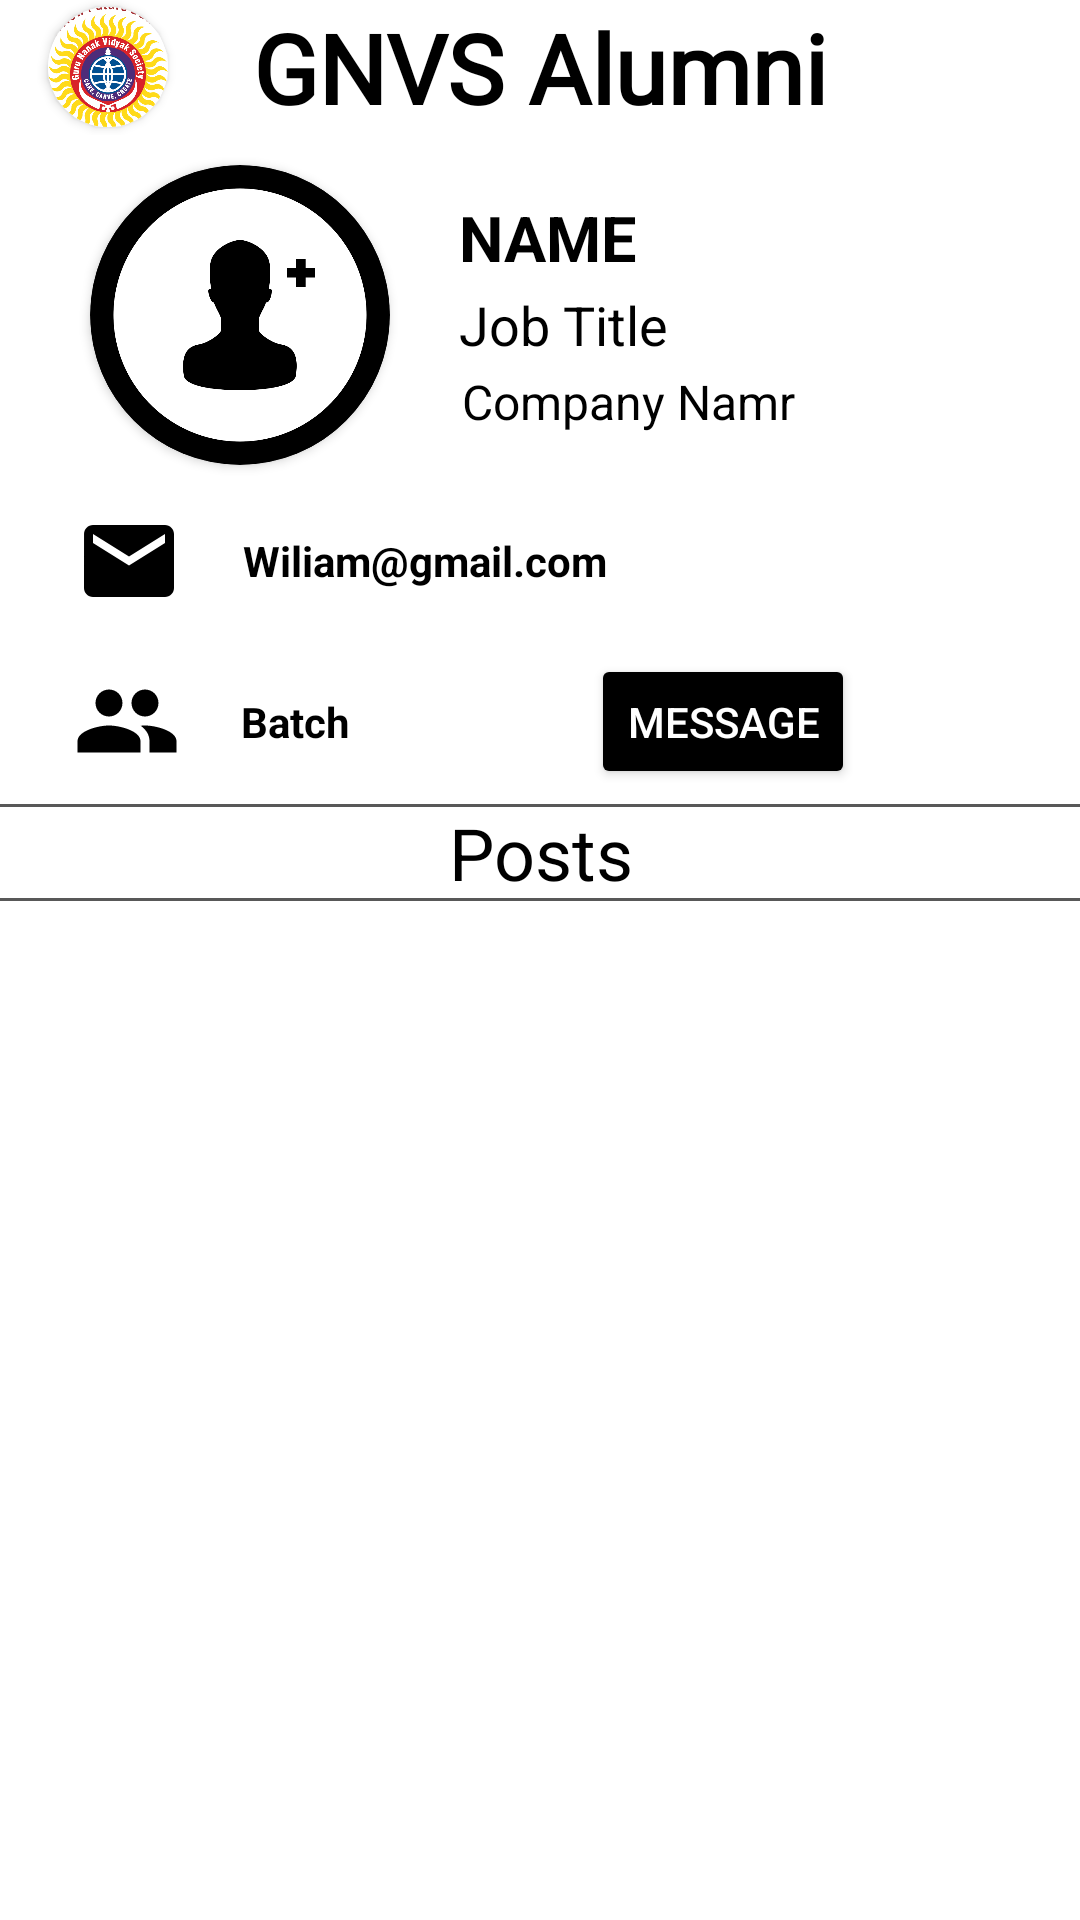

Icon bounding boxes for this 1080*1920 phone screenshot, format (x1, y1, x2, y2):
add pic: (90, 165, 390, 465)
email: (84, 525, 174, 597)
